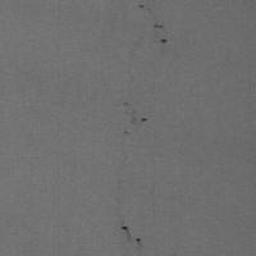Inclusion: (137, 3, 169, 45), (120, 100, 148, 137), (120, 225, 145, 251)
